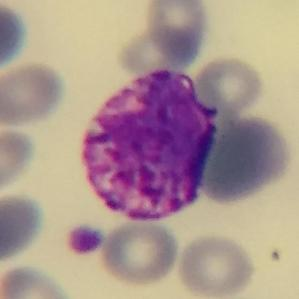Basophil: (73, 60, 225, 231)
Platelets: (62, 222, 108, 258)
RBC: (197, 115, 293, 202), (96, 218, 181, 288), (174, 231, 257, 299), (190, 54, 267, 117), (0, 60, 67, 129), (143, 0, 212, 66), (114, 25, 195, 78), (0, 191, 48, 266), (0, 123, 38, 197), (0, 262, 75, 299), (0, 0, 32, 75)
